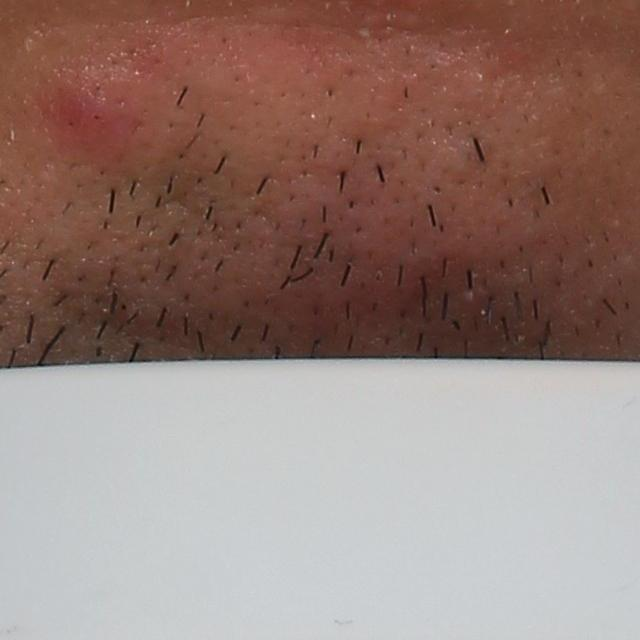papule: (37, 72, 139, 169)
